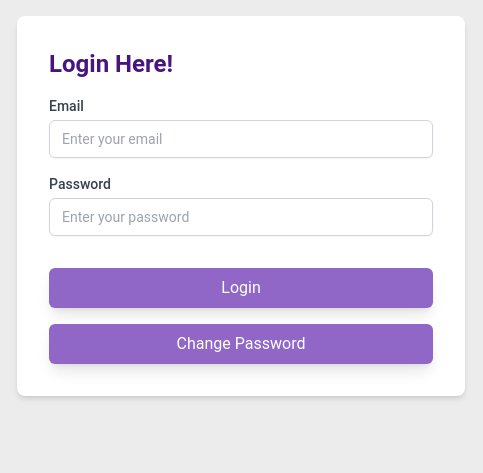
Test: LoginForm suite tests › should display validation errors
What coordinates should you click on to do the following:
click the button "Login"
I would click on:
 (241, 288)
Its box is [49,268,433,308].
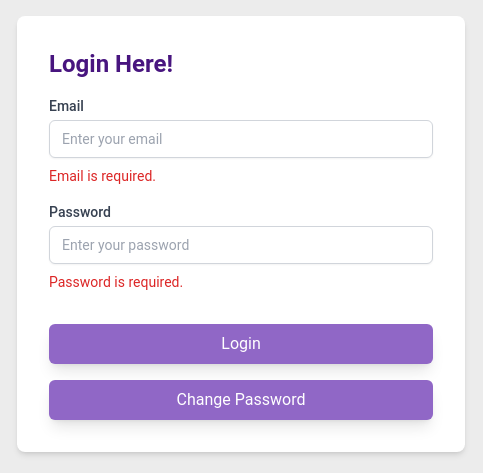
expect the text "Email is required." is shown: met, box [49,168,156,184]
expect the text "Password is required." is shown: met, box [49,274,183,290]
